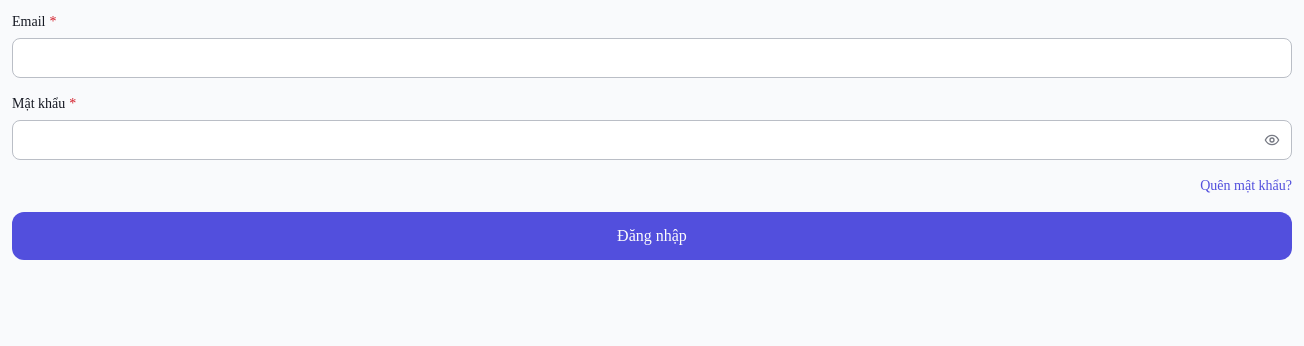
it: LoginForm › shows the translated API error
Step 1. Type "minh@example.com" into the field labelled "Email *" → (652, 58), box [12,38,1292,78]
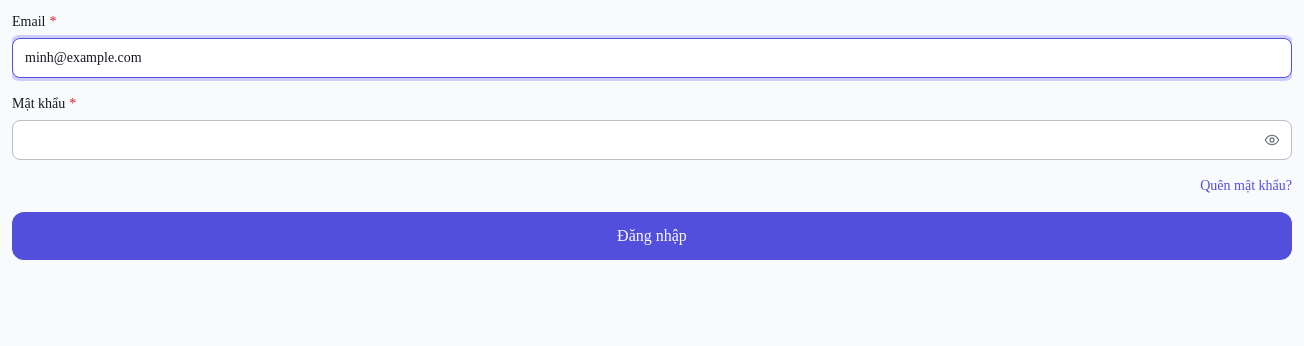
Step 2. Type "wrong123" into the password field labelled "Mật khẩu *" → (652, 140), box [12,120,1292,160]
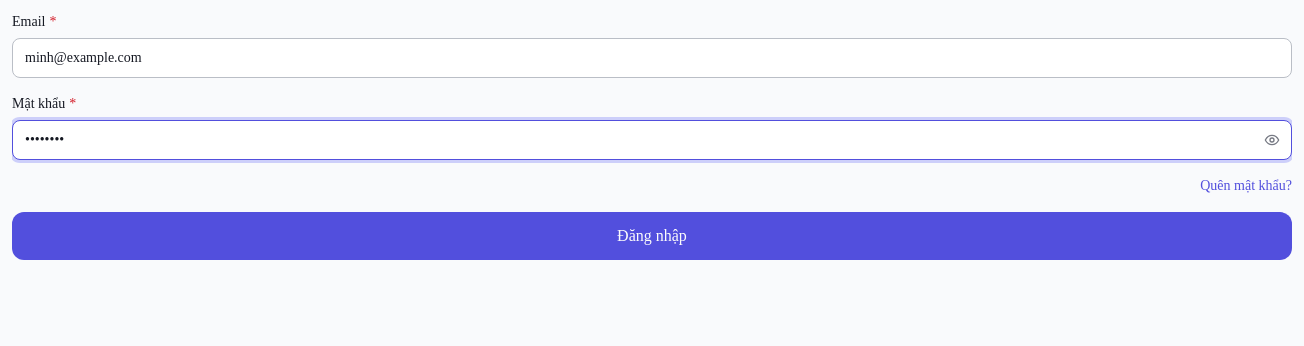
Step 3. Click the button "Đăng nhập" → (652, 236), box [12,212,1292,260]
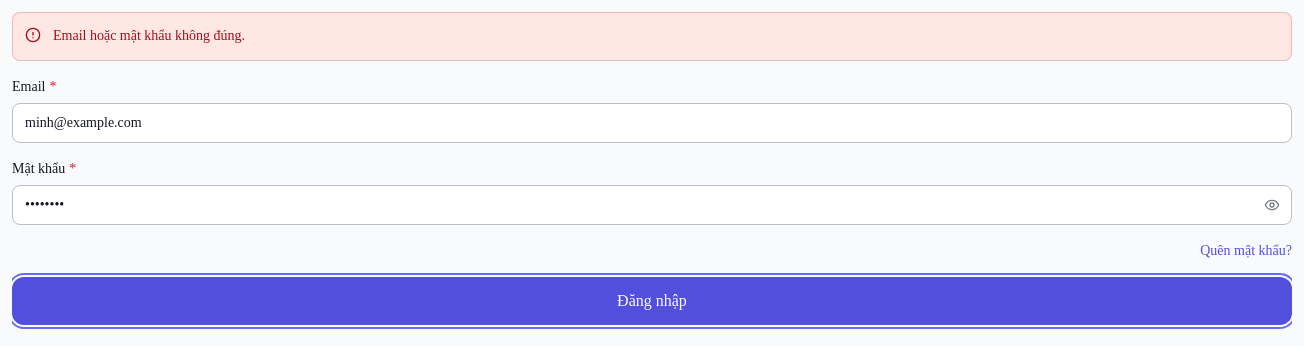
Now the message reads "Email hoặc mật khẩu không đúng.", box [53,28,245,43]
